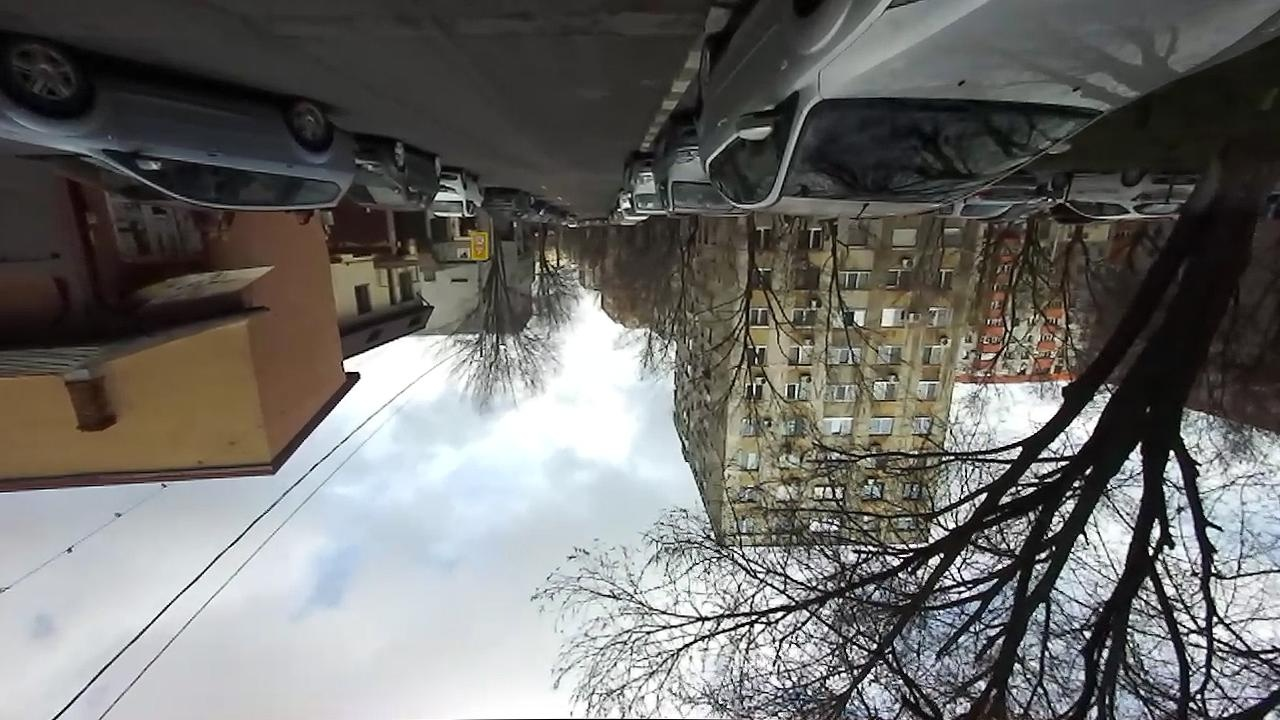pothole: (483, 0, 620, 40)
